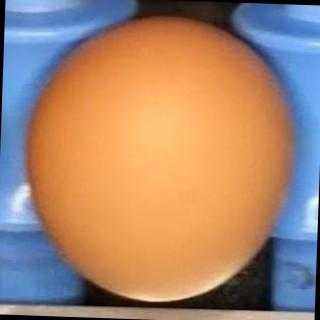Telur: (10, 10, 312, 308)
